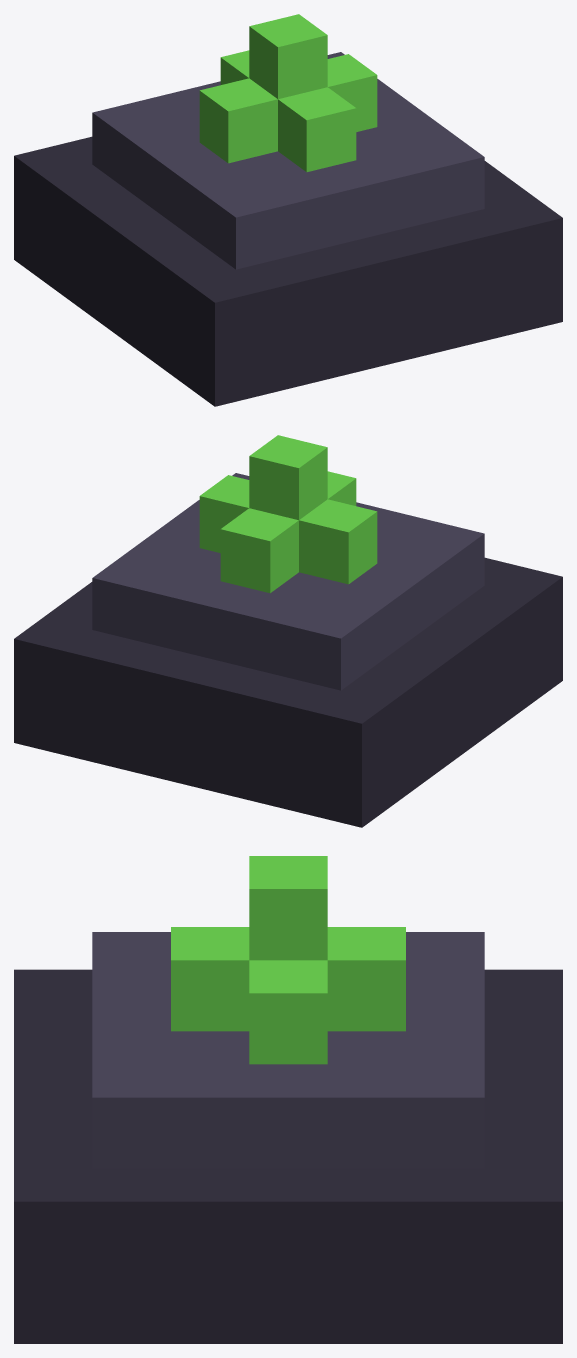
The model's file is rune-stone.glb.
3 renders of one model, top to bottom at view 1: azimuth 30°, elevation 25°; view 2: azimuth 150°, elevation 25°; view 3: azimuth 270°, elevation 25°, orthographic. The views are drawn at different scales.
Parts seen in each view (by area): view 1: rune_stone; view 2: rune_stone; view 3: rune_stone.
Boxes of the visible parts, box(x1,y1,x2,y2) form: rune_stone: box(14, 14, 562, 406); rune_stone: box(14, 435, 562, 827); rune_stone: box(14, 856, 562, 1343).
Size of the model in its own units: 0.7 by 0.5 by 0.7.
